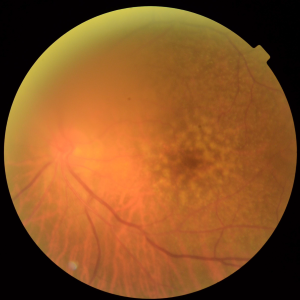retina_disease: (31, 110, 238, 222)
